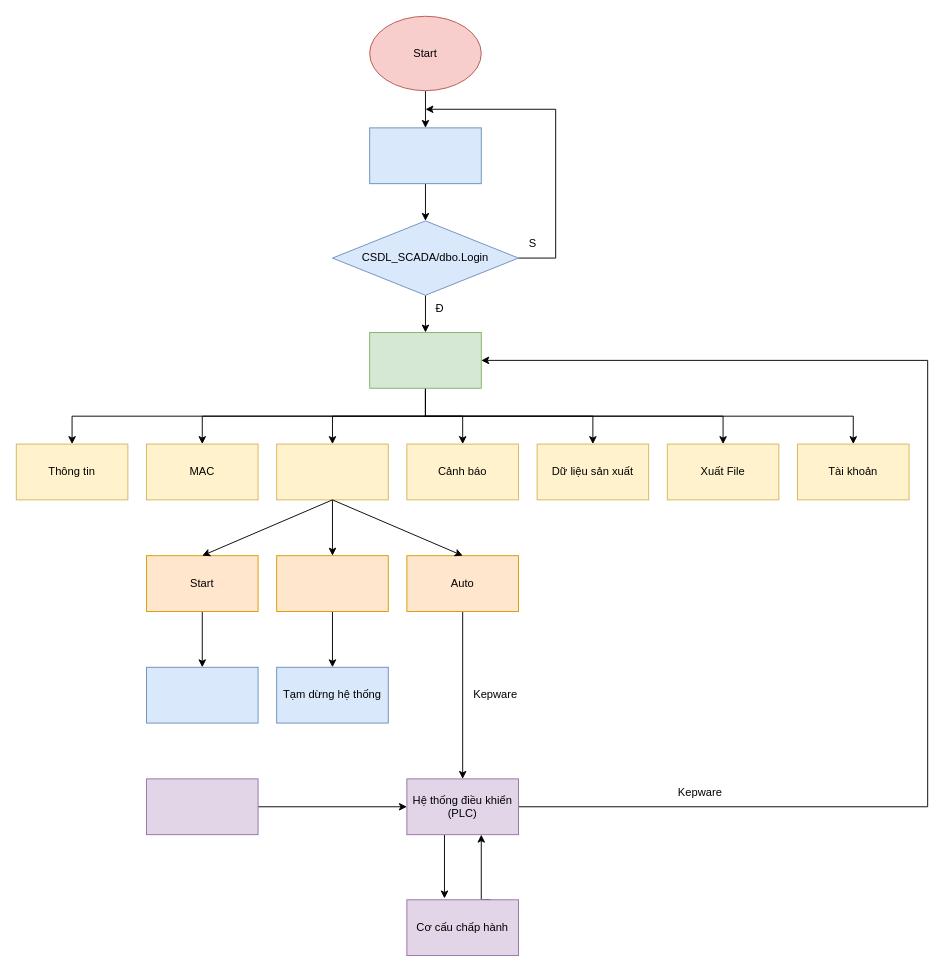
The diagram is 951 pixels wide and 972 high, and some of its shapes have lost their labels. The shapes that lost their labels are listed below. From the top down, each one's centre as x and y in pixels, then its label:
pixel 425 155: Đăng nhập
pixel 425 360: Giao diện MENU
pixel 332 471: Home screen
pixel 332 583: Stop
pixel 202 694: Khởi chạy thiết bị
pixel 202 806: TIA Portal
